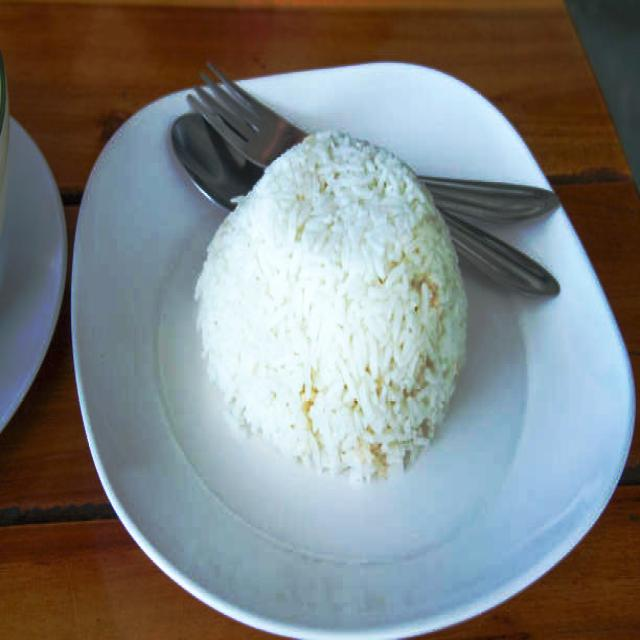rice: (196, 130, 466, 483)
